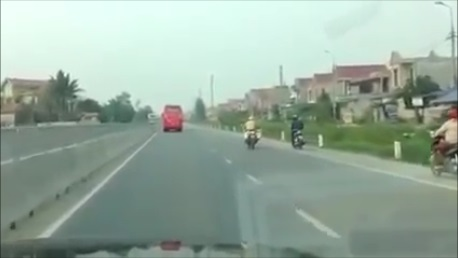police: (240, 114, 263, 153)
